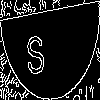S: (25, 25, 46, 76)
